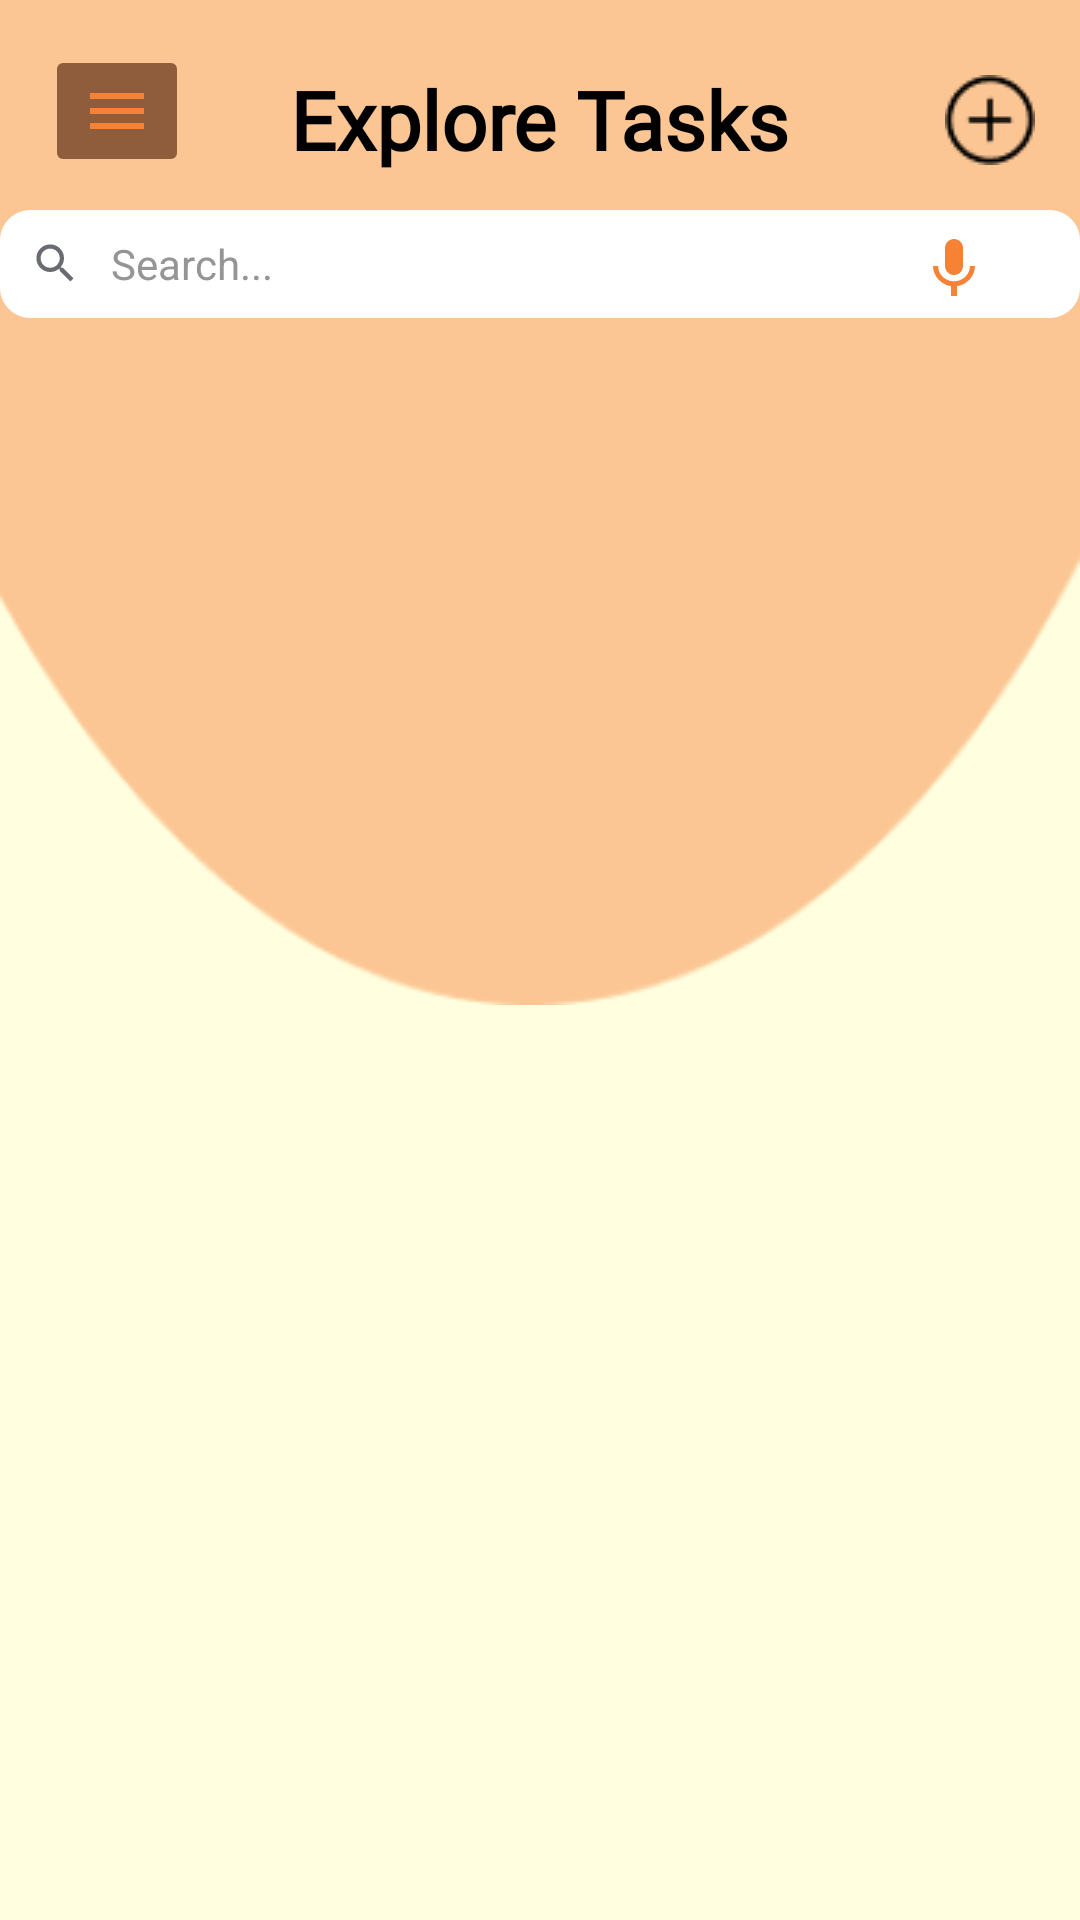

Named icons in this screenshot (1080w x 1920h) and their bounding boxes, [x1,y1,x2,y2]:
add: [945,75,1035,165]
menu: [57,63,177,159]
mic: [933,239,975,296]
